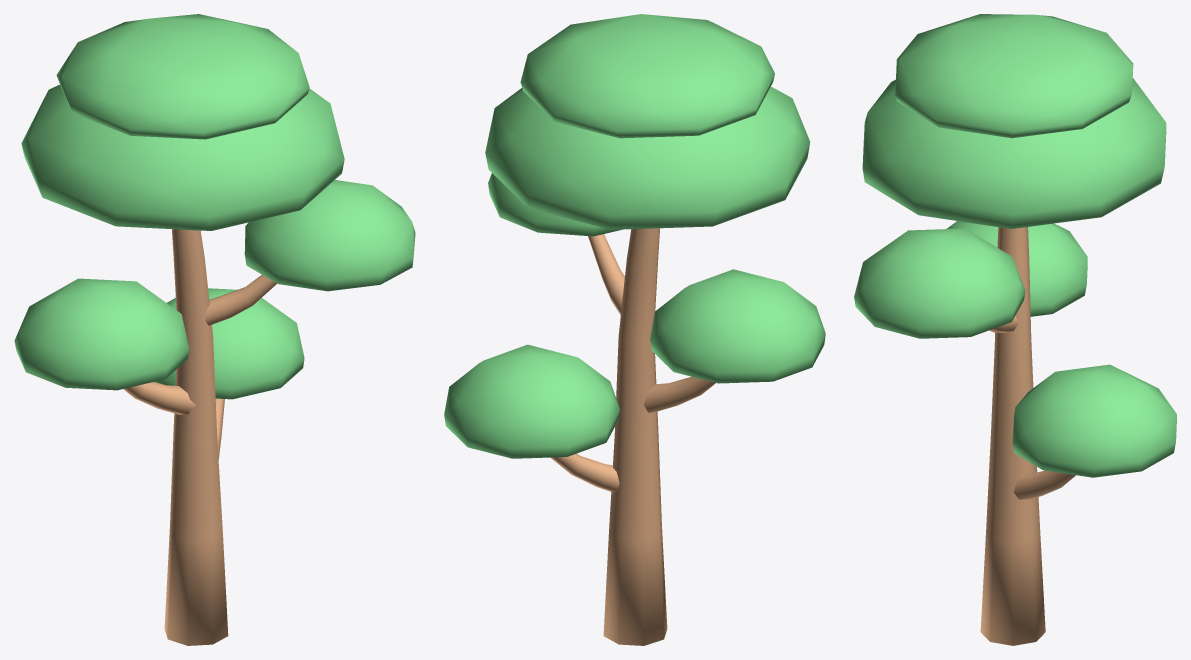
The model's file is Pohon_6.fbx.
3 renders of one model, left to right at view 1: azimuth 30°, elevation 25°; view 2: azimuth 150°, elevation 25°; view 3: azimuth 270°, elevation 25°, orthographic.
Visible parts, largest first — view 1: Circle.040; view 2: Circle.040; view 3: Circle.040.
Boxes of the visible parts, <box> form: Circle.040: <box>14,14,415,645</box>; Circle.040: <box>444,14,825,645</box>; Circle.040: <box>854,14,1176,645</box>.
Size of the model in its own units: 889 by 1463 by 725.
